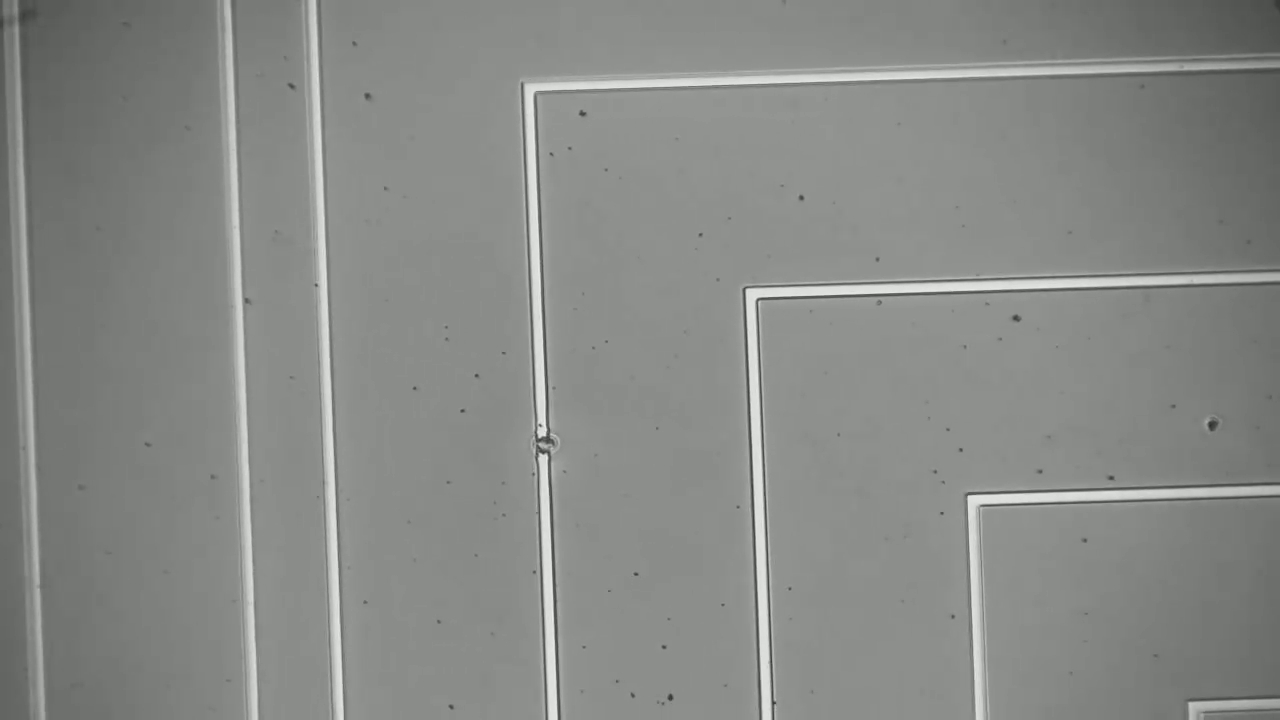stains_enbedded: (527, 416, 575, 472)
